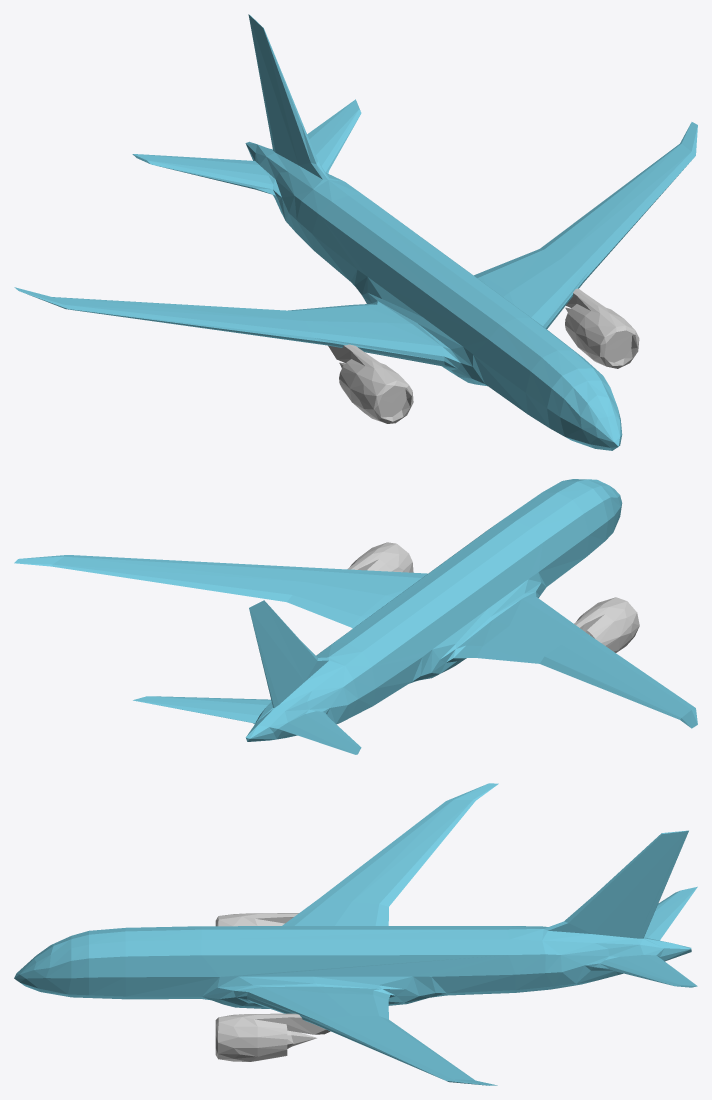
File: AirplaneNew.glb
3 views of the same model, one above another, from view 1: azimuth 30°, elevation 25°; view 2: azimuth 150°, elevation 25°; view 3: azimuth 270°, elevation 25° (orthographic). The views are drawn at different scales.
Visible parts, largest first — view 1: Boeing_787_8.obj.2; view 2: Boeing_787_8.obj.2; view 3: Boeing_787_8.obj.2.
Part boxes in pixels (<box>): Boeing_787_8.obj.2: <box>14,14,697,450</box>; Boeing_787_8.obj.2: <box>14,479,697,754</box>; Boeing_787_8.obj.2: <box>14,783,697,1085</box>.
Bounding box in the file's own units: 562 × 155 × 537.
